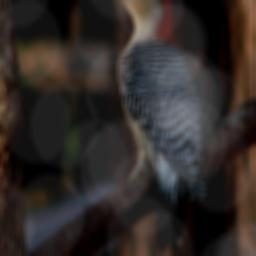Woodpecker: (88, 0, 208, 248)
